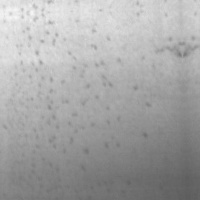pitted_surface: (6, 10, 124, 164)
